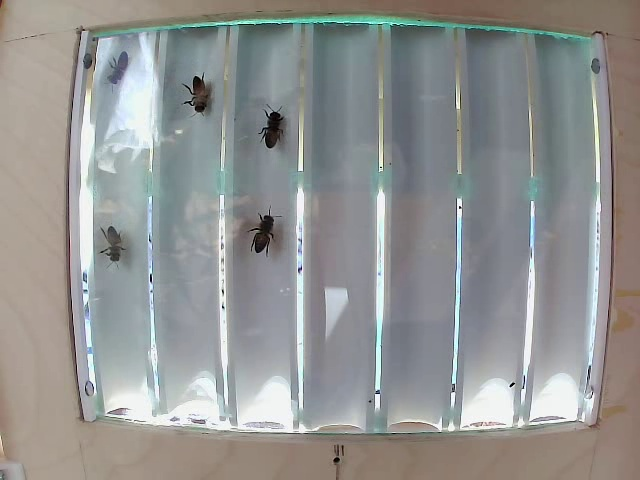bee: (245, 206, 282, 253), (92, 224, 131, 265), (256, 106, 289, 149), (184, 79, 215, 113), (105, 59, 133, 90)
